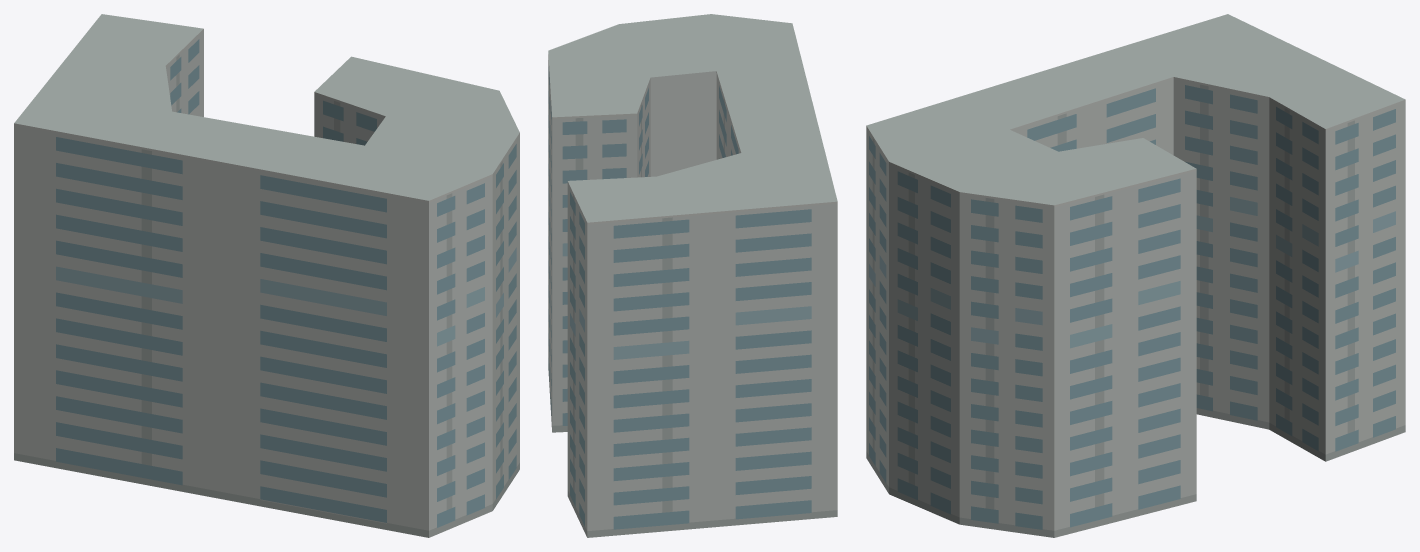
File: residential-3ac00948-b023-4ad3-b37f-192e85946a4a.glb
3 views of the same model, side by side, from view 1: azimuth 30°, elevation 25°; view 2: azimuth 150°, elevation 25°; view 3: azimuth 270°, elevation 25° (orthographic). The views are drawn at different scales.
Parts seen in each view (by area): view 1: residential-3ac00948-b023-4ad3-b37f-192e85946a4a.tmp; view 2: residential-3ac00948-b023-4ad3-b37f-192e85946a4a.tmp; view 3: residential-3ac00948-b023-4ad3-b37f-192e85946a4a.tmp.
Part boxes in pixels (<box>): residential-3ac00948-b023-4ad3-b37f-192e85946a4a.tmp: <box>14,14,519,537</box>; residential-3ac00948-b023-4ad3-b37f-192e85946a4a.tmp: <box>548,14,837,537</box>; residential-3ac00948-b023-4ad3-b37f-192e85946a4a.tmp: <box>866,14,1405,537</box>.
Size of the model in its own units: 49.38 by 40 by 58.8.
